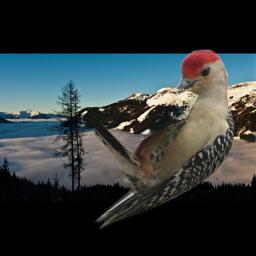Woodpecker: (94, 49, 234, 234)
